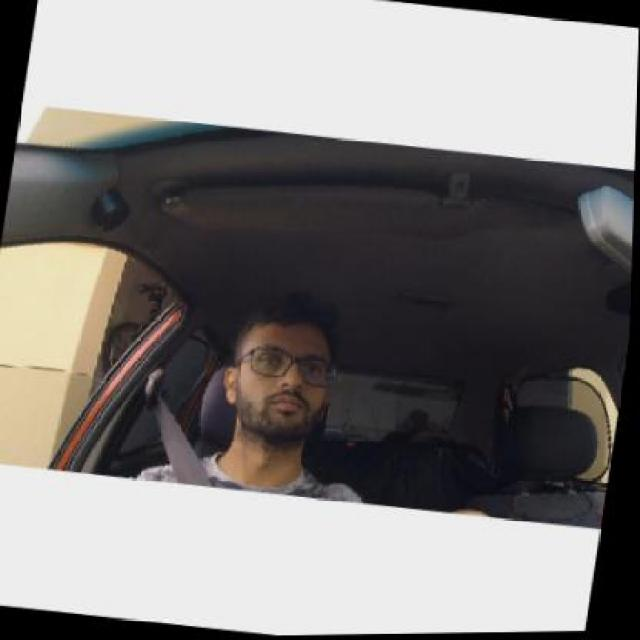person: (217, 288, 354, 470)
